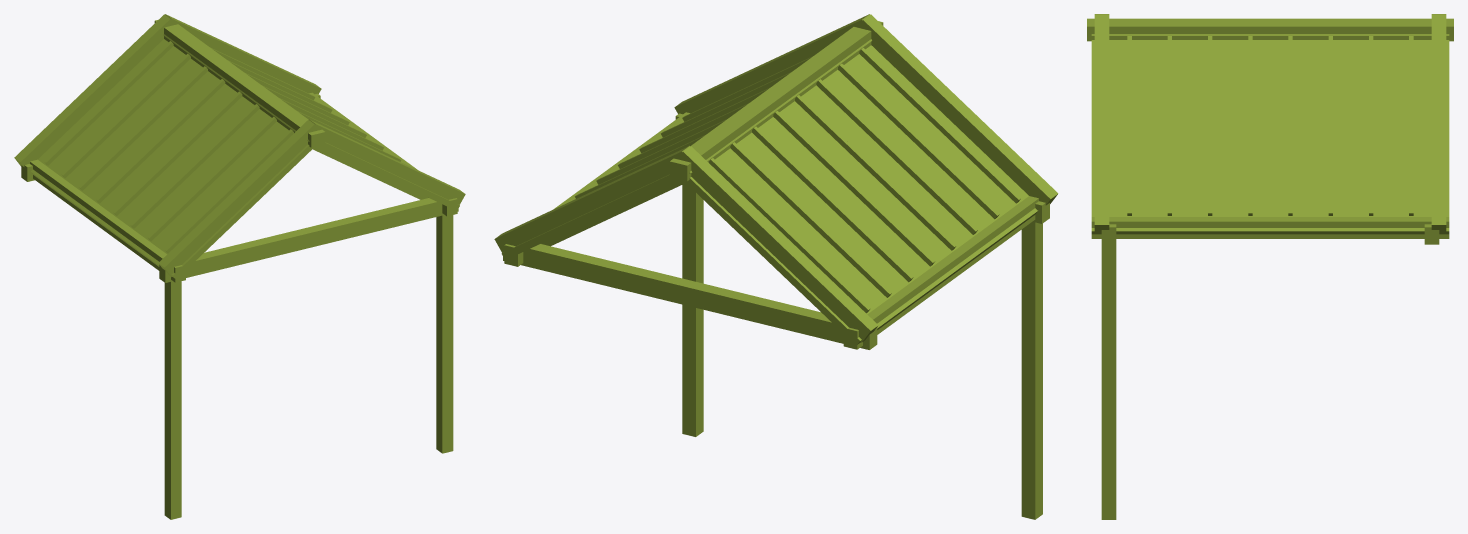
Rendered from marquesina.glb.
3 views of the same model, side by side, from view 1: azimuth 30°, elevation 25°; view 2: azimuth 150°, elevation 25°; view 3: azimuth 270°, elevation 25° (orthographic). The views are drawn at different scales.
Parts seen in each view (by area): view 1: Faldon_Izq_Metal, Fascia_Frente, Poste_Der, Poste_Izq, Rake_Izq_-1, Rake_Izq_1, Viga_Cumbrera, Alero_Izq, Rake_Der_-1, Rake_Der_1, Faldon_Der_Ambar, Costilla_07 (+9 smaller); view 2: Faldon_Izq_Metal, Fascia_Trasera, Poste_Izq, Rake_Izq_1, Rake_Izq_-1, Viga_Cumbrera, Poste_Der, Alero_Izq, Rake_Der_1, Rake_Der_-1, Faldon_Der_Ambar, Costilla_06 (+14 smaller); view 3: Faldon_Der_Ambar, Viga_Cumbrera, Alero_Der, Poste_Der, Rake_Der_-1, Rake_Der_1, CostillaDer_00, CostillaDer_01, CostillaDer_02, CostillaDer_03, CostillaDer_04, CostillaDer_05 (+3 smaller).
Boxes of the visible parts, <box> form: Faldon_Izq_Metal: <box>30,39,314,278</box>; Fascia_Frente: <box>159,198,458,282</box>; Poste_Der: <box>436,215,453,453</box>; Poste_Izq: <box>164,281,181,519</box>; Rake_Izq_-1: <box>158,120,318,276</box>; Rake_Izq_1: <box>14,14,174,166</box>; Viga_Cumbrera: <box>154,19,325,147</box>; Alero_Izq: <box>30,159,185,282</box>; Rake_Der_-1: <box>309,119,465,204</box>; Rake_Der_1: <box>165,14,321,94</box>; Faldon_Der_Ambar: <box>163,34,459,209</box>; Costilla_07: <box>44,41,173,165</box>; Faldon_Izq_Metal: <box>683,45,1037,345</box>; Fascia_Trasera: <box>503,244,877,349</box>; Poste_Izq: <box>1021,220,1042,519</box>; Rake_Izq_1: <box>678,146,878,342</box>; Rake_Izq_-1: <box>857,14,1058,205</box>; Viga_Cumbrera: <box>669,21,883,181</box>; Poste_Der: <box>682,183,703,436</box>; Alero_Izq: <box>843,196,1038,349</box>; Rake_Der_1: <box>494,146,689,252</box>; Rake_Der_-1: <box>674,14,869,114</box>; Faldon_Der_Ambar: <box>501,39,871,259</box>; Costilla_06: <box>730,142,891,297</box>; Faldon_Der_Ambar: <box>1091,40,1449,234</box>; Viga_Cumbrera: <box>1087,18,1453,41</box>; Alero_Der: <box>1091,217,1449,238</box>; Poste_Der: <box>1101,244,1116,519</box>; Rake_Der_-1: <box>1094,14,1109,233</box>; Rake_Der_1: <box>1431,14,1446,233</box>; CostillaDer_00: <box>1127,36,1131,215</box>; CostillaDer_01: <box>1167,36,1171,215</box>; CostillaDer_02: <box>1208,36,1212,215</box>; CostillaDer_03: <box>1248,36,1252,215</box>; CostillaDer_04: <box>1288,36,1292,215</box>; CostillaDer_05: <box>1328,36,1332,215</box>.
Size of the model in its own units: 2.77 by 3.2 by 2.5.
